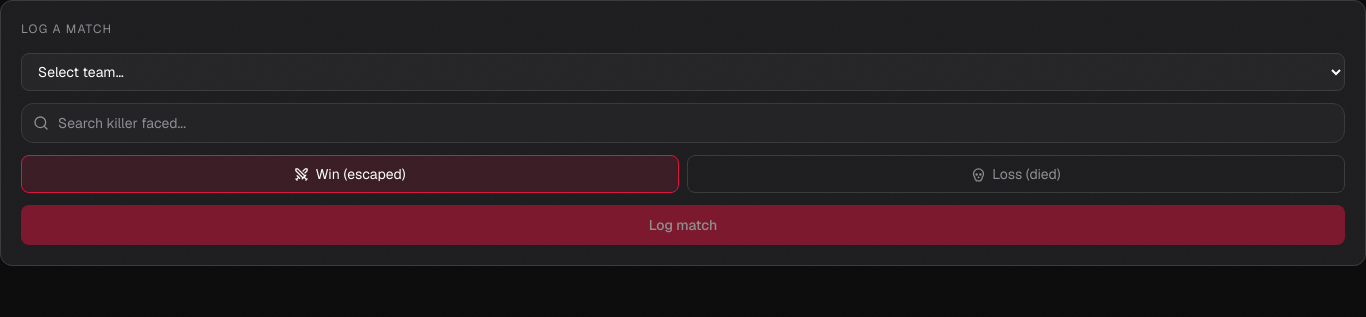
Scenario: StreakLaunchForm › keeps the submit button disabled until a killer is picked via autocomplete
Select "Alpha" in the dropdown named "Team" at (683, 72), box [21, 53, 1345, 91]
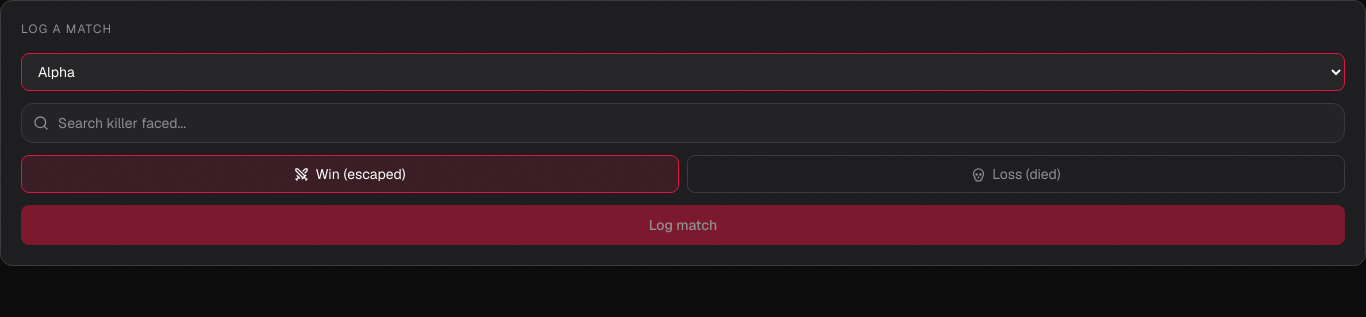
Expected: the button "Log match" is disabled, [21, 205, 1345, 245]
Type "Nurse" into the dropdown labelled "killer faced".
click(683, 123); type("Nurse")  # box [21, 103, 1345, 143]
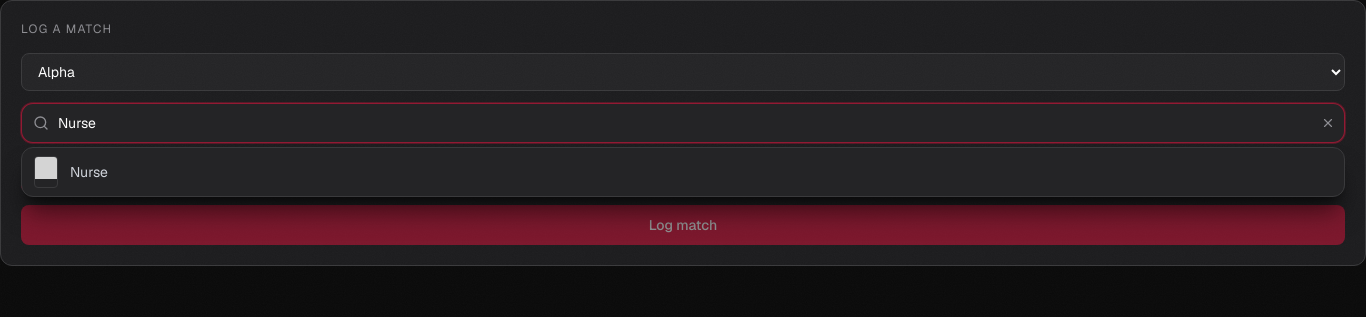
Click the option "Nurse".
click(71, 172)  # box [34, 156, 108, 188]
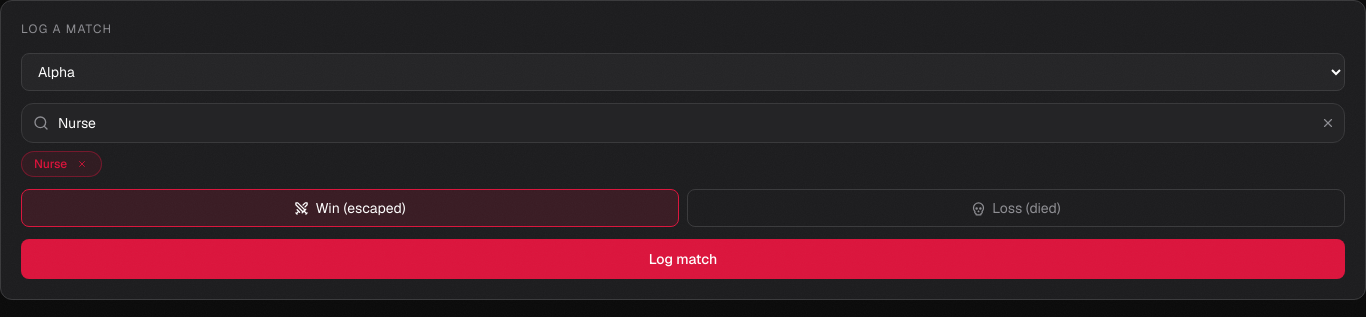
Result: the button "Log match" is enabled at [21, 239, 1345, 279]
